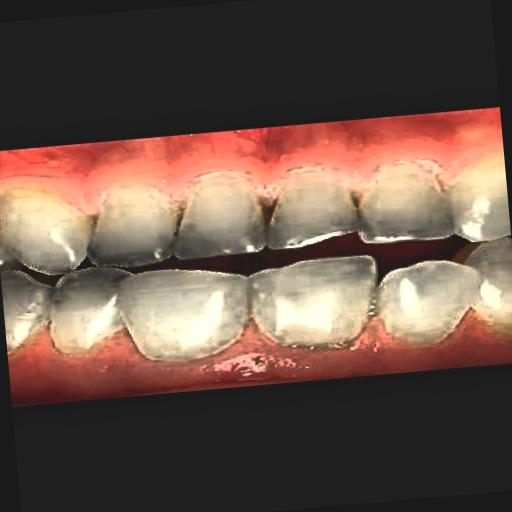Healthy: (9, 196, 512, 393)
